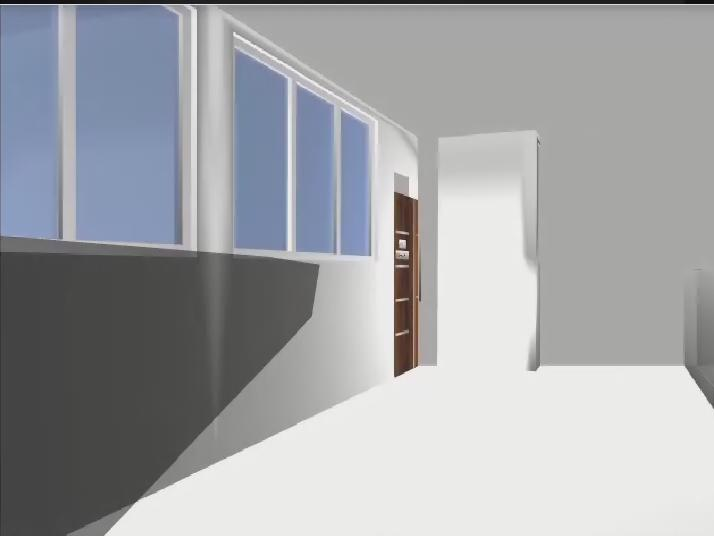door: (394, 193, 421, 377)
